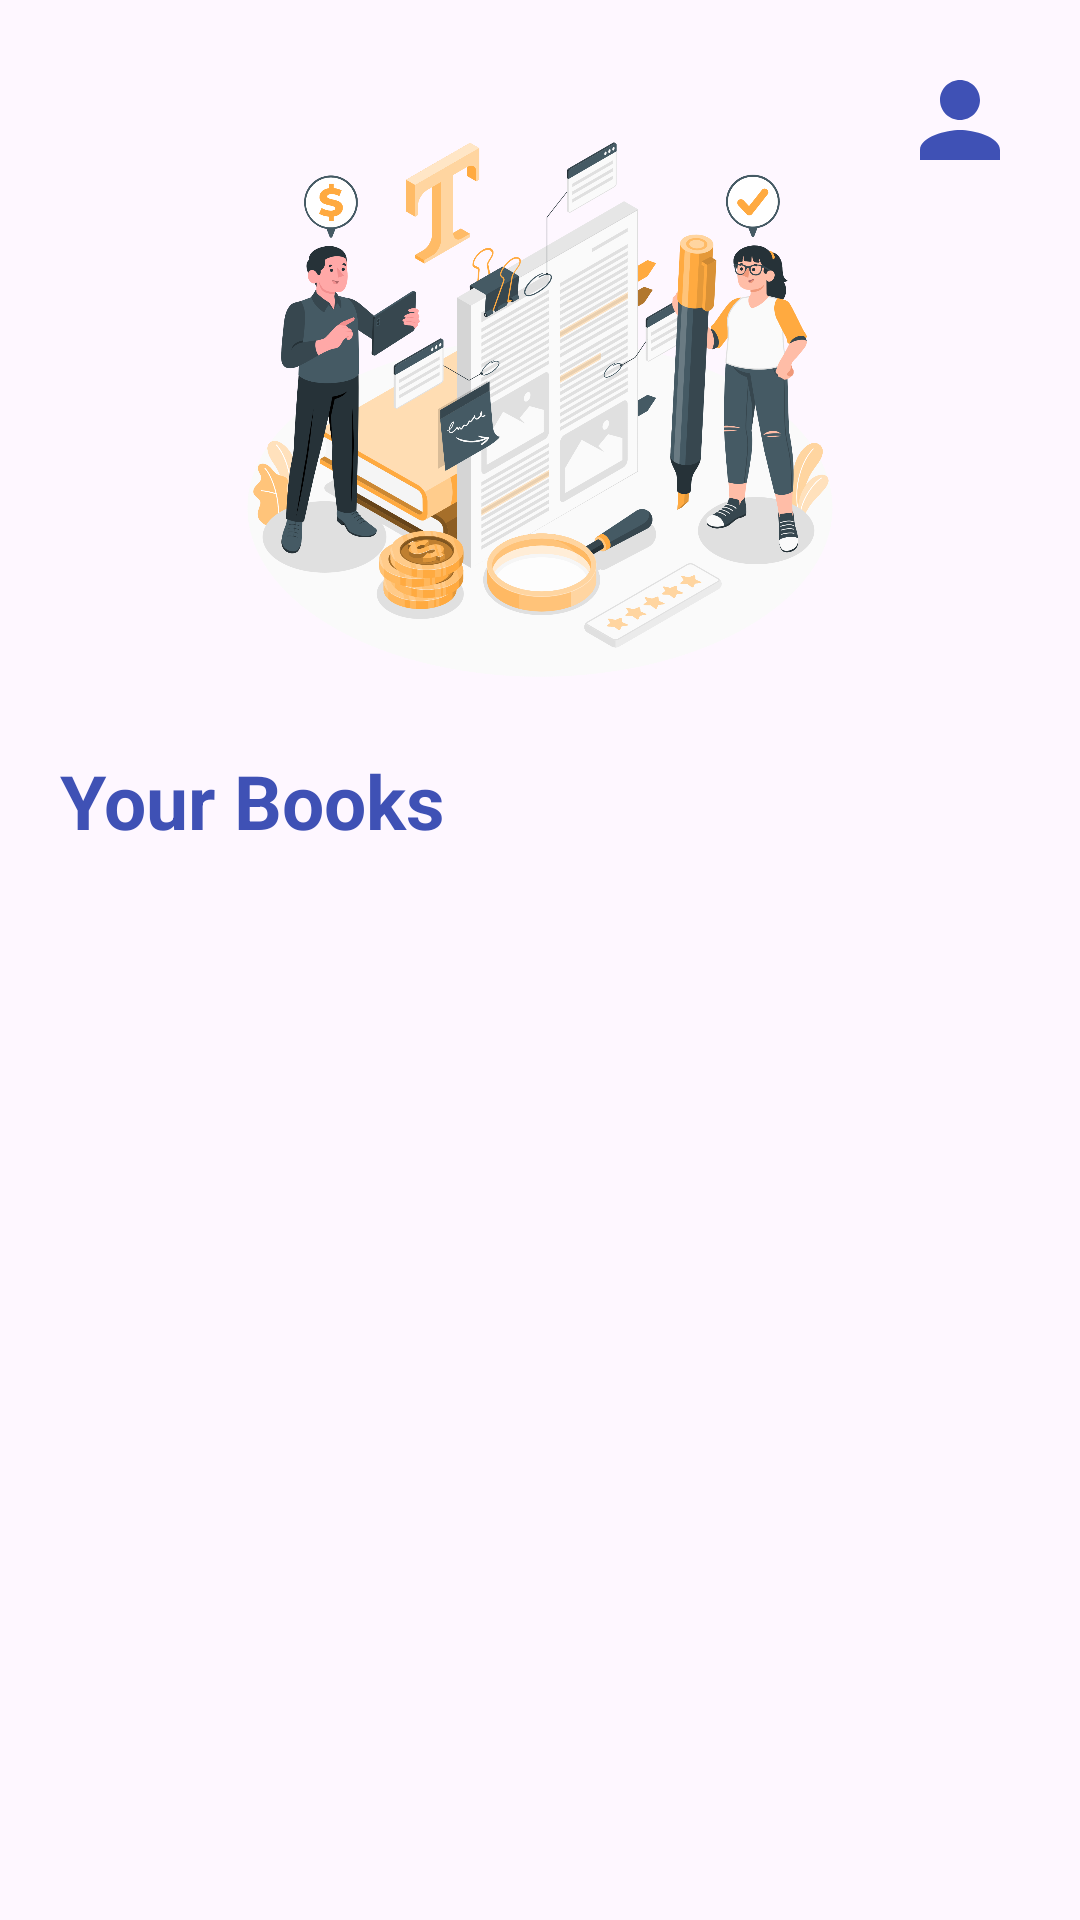

Icons on this 1080 x 1920 Android screen, each with its box as [x1,y1,x2,y2]:
person: [920,80,1000,160]
